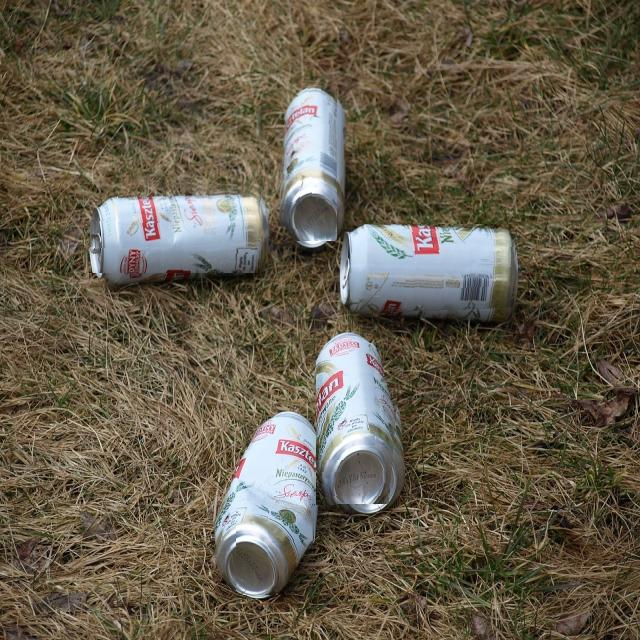Cans: (84, 179, 261, 273), (350, 224, 518, 314), (316, 344, 402, 506), (236, 428, 316, 596), (278, 79, 338, 241)
